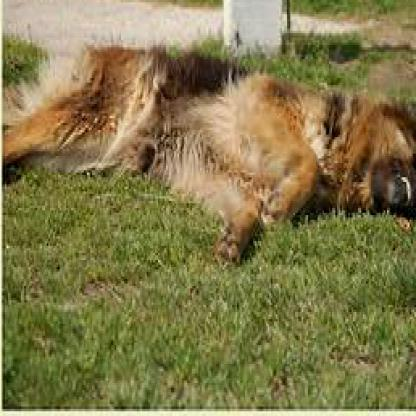dog: (1, 42, 415, 273)
